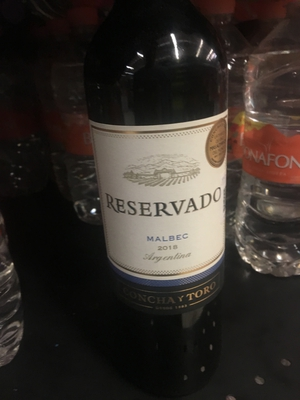reservado malbec: (92, 8, 235, 336)
